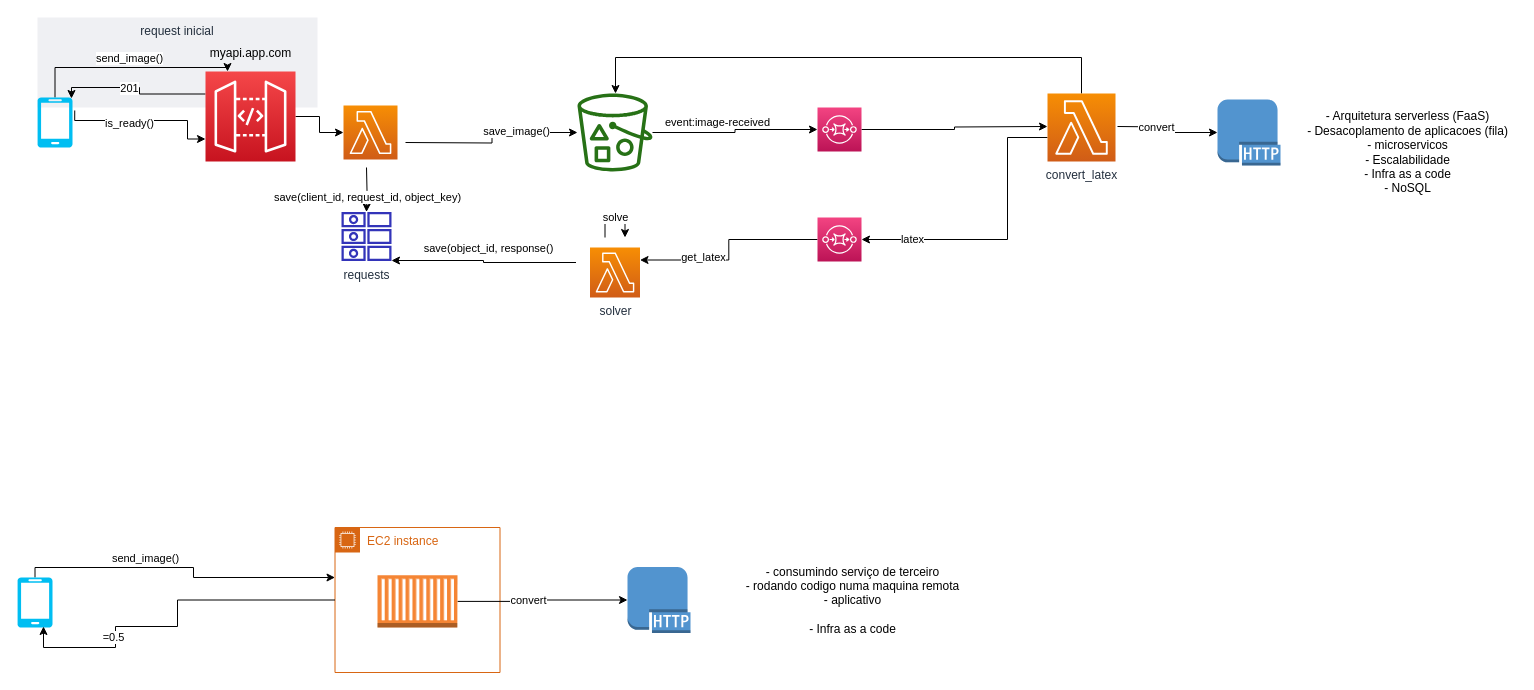
The diagram is 1534 pixels wide and 690 high, and some of its shapes have lost their labels. Here are the shapes that lost their labels. From the top down, the centre of each, then its label:
At point (250, 116): "api gateway".
At point (839, 129): "queue-images-received".
At point (839, 239): "queue-latex".
